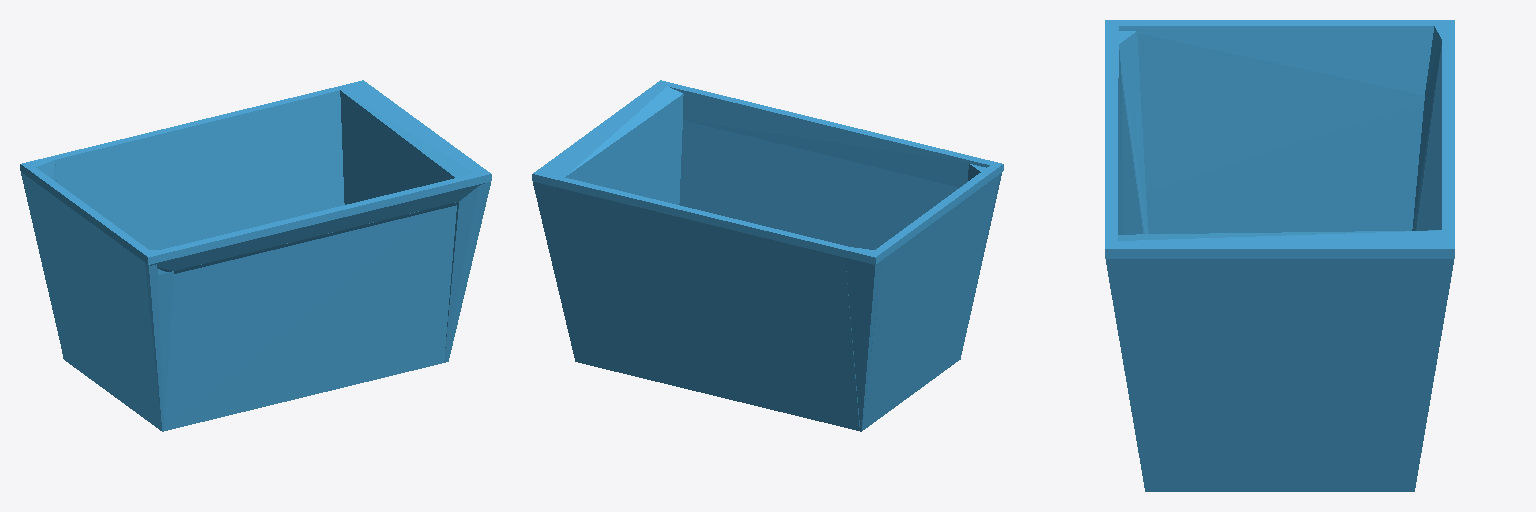
URDF robot description (cf2x_with_basket):
<?xml version="1.0" encoding="UTF-8"?>
<robot name="cf2x_with_basket">
  <joint name="attach_joint" type="fixed">
    <origin xyz="0. 0. 0." rpy="0. 0. 0."/>
    <parent link="basket"/>
    <child link="attach_link"/>
  </joint>
  <joint name="basket_joint" type="fixed">
    <origin xyz="0. 0. 0.043" rpy="0. 0. 0."/>
    <parent link="crazyflie"/>
    <child link="basket"/>
  </joint>
  <joint name="container_0_0_joint" type="fixed">
    <origin xyz="0. 0. 0." rpy="0. 0. 0."/>
    <parent link="basket"/>
    <child link="basket_container_link"/>
  </joint>
  <joint name="imu_joint" type="fixed">
    <origin xyz="0. 0. 0." rpy="0. 0. 0."/>
    <parent link="crazyflie"/>
    <child link="imu_link"/>
  </joint>
  <joint name="m1_joint" type="continuous">
    <origin xyz="0.031 -0.031 0.021" rpy="0. 0. 0."/>
    <parent link="crazyflie"/>
    <child link="m1_prop"/>
    <axis xyz="0. 0. 1."/>
  </joint>
  <joint name="m2_joint" type="continuous">
    <origin xyz="-0.031 -0.031 0.021" rpy="0. 0. 0."/>
    <parent link="crazyflie"/>
    <child link="m2_prop"/>
    <axis xyz="0. 0. 1."/>
  </joint>
  <joint name="m3_joint" type="continuous">
    <origin xyz="-0.031 0.031 0.021" rpy="0. 0. 0."/>
    <parent link="crazyflie"/>
    <child link="m3_prop"/>
    <axis xyz="0. 0. 1."/>
  </joint>
  <joint name="m4_joint" type="continuous">
    <origin xyz="0.031 0.031 0.021" rpy="0. 0. 0."/>
    <parent link="crazyflie"/>
    <child link="m4_prop"/>
    <axis xyz="0. 0. 1."/>
  </joint>
  <link name="attach_link">
    <inertial>
      <origin xyz="0. 0. 0." rpy="0. 0. 0."/>
      <mass value="0.001"/>
      <inertia ixx="0." ixy="0." ixz="0." iyy="0." iyz="0." izz="0."/>
    </inertial>
    <visual>
      <origin xyz="0. 0. 0." rpy="0. 0. 0."/>
      <geometry>
        <box size="0.001 0.001 0.001"/>
      </geometry>
    </visual>
  </link>
  <link name="basket">
    <visual>
      <origin xyz="0. 0. 0." rpy="0. 0. 0."/>
      <geometry>
        <mesh filename="meshes/basket_visuals.obj" scale="1. 1. 1."/>
      </geometry>
    </visual>
    <visual>
      <origin xyz="0. 0. 0." rpy="0. 0. 0."/>
      <geometry>
        <mesh filename="meshes/shopping_basket_nedrsh_base_link_0.obj" scale="1. 1. 1."/>
      </geometry>
    </visual>
    <visual>
      <origin xyz="0. 0. 0." rpy="0. 0. 0."/>
      <geometry>
        <mesh filename="meshes/shopping_basket_nedrsh_base_link_1.obj" scale="1. 1. 1."/>
      </geometry>
    </visual>
    <visual>
      <origin xyz="0. 0. 0." rpy="0. 0. 0."/>
      <geometry>
        <mesh filename="meshes/shopping_basket_nedrsh_base_link_2.obj" scale="1. 1. 1."/>
      </geometry>
    </visual>
    <visual>
      <origin xyz="0. 0. 0." rpy="0. 0. 0."/>
      <geometry>
        <mesh filename="meshes/shopping_basket_nedrsh_base_link_3.obj" scale="1. 1. 1."/>
      </geometry>
    </visual>
    <visual>
      <origin xyz="0. 0. 0." rpy="0. 0. 0."/>
      <geometry>
        <mesh filename="meshes/shopping_basket_nedrsh_base_link_4.obj" scale="1. 1. 1."/>
      </geometry>
    </visual>
    <visual>
      <origin xyz="0. 0. 0." rpy="0. 0. 0."/>
      <geometry>
        <mesh filename="meshes/shopping_basket_nedrsh_base_link_5.obj" scale="1. 1. 1."/>
      </geometry>
    </visual>
    <visual>
      <origin xyz="0. 0. 0." rpy="0. 0. 0."/>
      <geometry>
        <mesh filename="meshes/shopping_basket_nedrsh_base_link_6.obj" scale="1. 1. 1."/>
      </geometry>
    </visual>
    <visual>
      <origin xyz="0. 0. 0." rpy="0. 0. 0."/>
      <geometry>
        <mesh filename="meshes/shopping_basket_nedrsh_base_link_7.obj" scale="1. 1. 1."/>
      </geometry>
    </visual>
    <collision>
      <origin xyz="0. 0. 0." rpy="0. 0. 0."/>
      <geometry>
        <mesh filename="meshes/shopping_basket_nedrsh_base_link_0.obj" scale="1. 1. 1."/>
      </geometry>
    </collision>
    <collision>
      <origin xyz="0. 0. 0." rpy="0. 0. 0."/>
      <geometry>
        <mesh filename="meshes/shopping_basket_nedrsh_base_link_1.obj" scale="1. 1. 1."/>
      </geometry>
    </collision>
    <collision>
      <origin xyz="0. 0. 0." rpy="0. 0. 0."/>
      <geometry>
        <mesh filename="meshes/shopping_basket_nedrsh_base_link_2.obj" scale="1. 1. 1."/>
      </geometry>
    </collision>
    <collision>
      <origin xyz="0. 0. 0." rpy="0. 0. 0."/>
      <geometry>
        <mesh filename="meshes/shopping_basket_nedrsh_base_link_3.obj" scale="1. 1. 1."/>
      </geometry>
    </collision>
    <collision>
      <origin xyz="0. 0. 0." rpy="0. 0. 0."/>
      <geometry>
        <mesh filename="meshes/shopping_basket_nedrsh_base_link_4.obj" scale="1. 1. 1."/>
      </geometry>
    </collision>
    <collision>
      <origin xyz="0. 0. 0." rpy="0. 0. 0."/>
      <geometry>
        <mesh filename="meshes/shopping_basket_nedrsh_base_link_5.obj" scale="1. 1. 1."/>
      </geometry>
    </collision>
    <collision>
      <origin xyz="0. 0. 0." rpy="0. 0. 0."/>
      <geometry>
        <mesh filename="meshes/shopping_basket_nedrsh_base_link_6.obj" scale="1. 1. 1."/>
      </geometry>
    </collision>
    <collision>
      <origin xyz="0. 0. 0." rpy="0. 0. 0."/>
      <geometry>
        <mesh filename="meshes/shopping_basket_nedrsh_base_link_7.obj" scale="1. 1. 1."/>
      </geometry>
    </collision>
  </link>
  <link name="basket_container_link">
    <inertial>
      <origin xyz="0. 0. 0." rpy="0. 0. 0."/>
      <mass value="0.001"/>
      <inertia ixx="0." ixy="0." ixz="0." iyy="0." iyz="0." izz="0."/>
    </inertial>
  </link>
  <link name="crazyflie">
    <visual>
      <origin xyz="0. 0. 0." rpy="0. 0. 0."/>
      <geometry>
        <mesh filename="meshes/battery_holder.obj" scale="1. 1. 1."/>
      </geometry>
    </visual>
    <visual>
      <origin xyz="0. 0. 0." rpy="0. 0. 0."/>
      <geometry>
        <mesh filename="meshes/pin_headers.obj" scale="1. 1. 1."/>
      </geometry>
    </visual>
    <visual>
      <origin xyz="0. 0. 0." rpy="0. 0. 0."/>
      <geometry>
        <mesh filename="meshes/battery.obj" scale="1. 1. 1."/>
      </geometry>
    </visual>
    <visual>
      <origin xyz="0. 0. 0." rpy="0. 0. 0."/>
      <geometry>
        <mesh filename="meshes/cf_body_001.obj" scale="1. 1. 1."/>
      </geometry>
    </visual>
    <visual>
      <origin xyz="0. 0. 0." rpy="0. 0. 0."/>
      <geometry>
        <mesh filename="meshes/Cylinder.obj" scale="1. 1. 1."/>
      </geometry>
    </visual>
    <visual>
      <origin xyz="0. 0. 0." rpy="0. 0. 0."/>
      <geometry>
        <mesh filename="meshes/motor_mount.obj" scale="1. 1. 1."/>
      </geometry>
    </visual>
    <visual>
      <origin xyz="0. 0. 0." rpy="0. 0. 0."/>
      <geometry>
        <box size="0.1 0.1 0.03"/>
      </geometry>
    </visual>
    <collision>
      <origin xyz="0. 0. 0." rpy="0. 0. 0."/>
      <geometry>
        <box size="0.1 0.1 0.03"/>
      </geometry>
    </collision>
  </link>
  <link name="imu_link">
    <inertial>
      <origin xyz="0. 0. 0." rpy="0. 0. 0."/>
      <mass value="0.001"/>
      <inertia ixx="0." ixy="0." ixz="0." iyy="0." iyz="0." izz="0."/>
    </inertial>
    <visual>
      <origin xyz="0. 0. 0." rpy="0. 0. 0."/>
      <geometry>
        <box size="0.001 0.001 0.001"/>
      </geometry>
    </visual>
    <collision>
      <origin xyz="0. 0. 0." rpy="0. 0. 0."/>
      <geometry>
        <box size="0.001 0.001 0.001"/>
      </geometry>
    </collision>
  </link>
  <link name="m1_prop">
    <inertial>
      <origin xyz="0. 0. 0." rpy="0. 0. 0."/>
      <mass value="0.0008"/>
      <inertia ixx="0." ixy="0." ixz="0." iyy="0." iyz="0." izz="0."/>
    </inertial>
    <visual>
      <origin xyz="0. 0. 0." rpy="0. 0. 0."/>
      <geometry>
        <mesh filename="meshes/m1_prop_ccw_prop.obj" scale="1. 1. 1."/>
      </geometry>
    </visual>
  </link>
  <link name="m2_prop">
    <inertial>
      <origin xyz="0. 0. 0." rpy="0. 0. 0."/>
      <mass value="0.0008"/>
      <inertia ixx="0." ixy="0." ixz="0." iyy="0." iyz="0." izz="0."/>
    </inertial>
    <visual>
      <origin xyz="0. 0. 0." rpy="0. 0. 0."/>
      <geometry>
        <mesh filename="meshes/m2_prop_cw_prop.obj" scale="1. 1. 1."/>
      </geometry>
    </visual>
  </link>
  <link name="m3_prop">
    <inertial>
      <origin xyz="0. 0. 0." rpy="0. 0. 0."/>
      <mass value="0.0008"/>
      <inertia ixx="0." ixy="0." ixz="0." iyy="0." iyz="0." izz="0."/>
    </inertial>
    <visual>
      <origin xyz="0. 0. 0." rpy="0. 0. 0."/>
      <geometry>
        <mesh filename="meshes/m3_prop_ccw_prop.obj" scale="1. 1. 1."/>
      </geometry>
    </visual>
  </link>
  <link name="m4_prop">
    <inertial>
      <origin xyz="0. 0. 0." rpy="0. 0. 0."/>
      <mass value="0.0008"/>
      <inertia ixx="0." ixy="0." ixz="0." iyy="0." iyz="0." izz="0."/>
    </inertial>
    <visual>
      <origin xyz="0. 0. 0." rpy="0. 0. 0."/>
      <geometry>
        <mesh filename="meshes/m4_prop_cw_prop.obj" scale="1. 1. 1."/>
      </geometry>
    </visual>
  </link>
</robot>

--- What the picture shows (computed from the rendered views, not written in the file) ---
Views: 3 orthographic renders of the robot side by side, from view 1: azimuth 30°, elevation 25°; view 2: azimuth 150°, elevation 25°; view 3: azimuth 270°, elevation 25°.
Robot: cf2x_with_basket — 9 links, 8 joints (4 continuous, 4 fixed); root link crazyflie; default pose: all joints at 0.
Visible links, largest first — view 1: basket; view 2: basket; view 3: basket.
Boxes of the visible links, bbox=[...] form: basket: bbox=[20, 80, 491, 431]; basket: bbox=[532, 80, 1003, 431]; basket: bbox=[1105, 20, 1454, 491].
Size in the robot's own frame: 0.6142 by 0.397 by 0.3282 metres.
17 mesh visuals loaded from 19 distinct referenced files (17 OBJ); not drawn: 2 (reference not matched to a file when rendering).